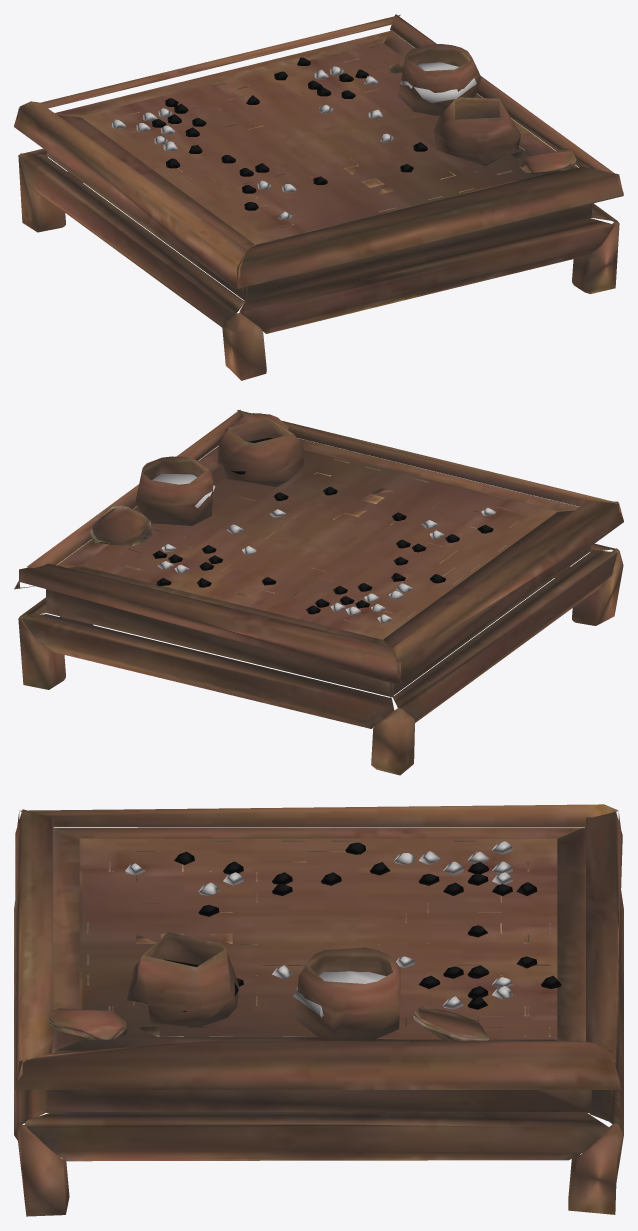
3 views of the same model, one above another, from view 1: azimuth 30°, elevation 25°; view 2: azimuth 150°, elevation 25°; view 3: azimuth 270°, elevation 25° (orthographic). The views are drawn at different scales.
Parts seen in each view (by area): view 1: Obj3d66-9730601-2-816, Obj3d66-9730601-36-20, Obj3d66-9730601-85-228; view 2: Obj3d66-9730601-2-816, Obj3d66-9730601-85-228, Obj3d66-9730601-36-20; view 3: Obj3d66-9730601-2-816, Obj3d66-9730601-85-228, Obj3d66-9730601-36-20.
Boxes of the visible parts, bbox=[...] form: Obj3d66-9730601-2-816: bbox=[14, 14, 623, 380]; Obj3d66-9730601-36-20: bbox=[112, 62, 476, 219]; Obj3d66-9730601-85-228: bbox=[152, 57, 427, 210]; Obj3d66-9730601-2-816: bbox=[14, 409, 623, 775]; Obj3d66-9730601-85-228: bbox=[152, 437, 493, 614]; Obj3d66-9730601-36-20: bbox=[152, 473, 495, 622]; Obj3d66-9730601-2-816: bbox=[14, 804, 623, 1216]; Obj3d66-9730601-85-228: bbox=[164, 842, 561, 1011]; Obj3d66-9730601-36-20: bbox=[125, 841, 512, 1017].
Size of the model in its own units: 1.2 by 0.4664 by 1.2.
3 materials, 1 textured.
